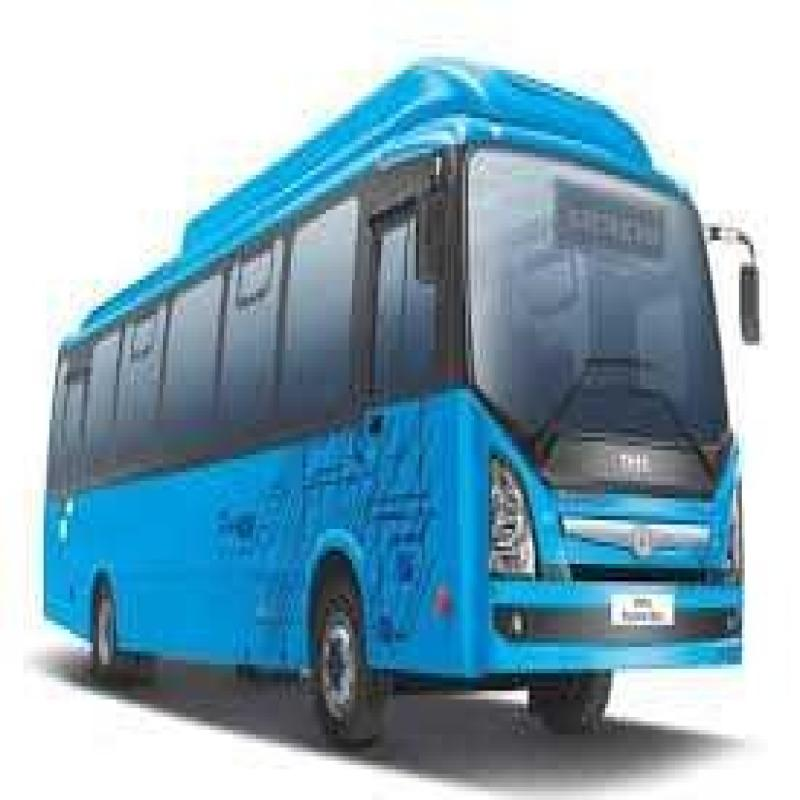bus: (57, 84, 728, 727)
